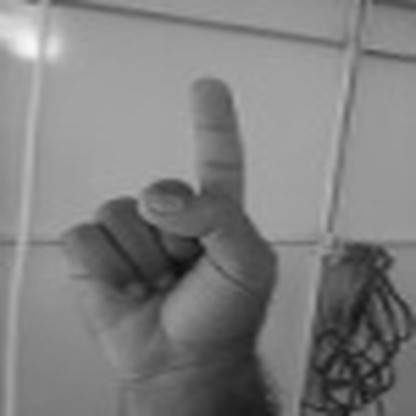d: (55, 73, 282, 369)
